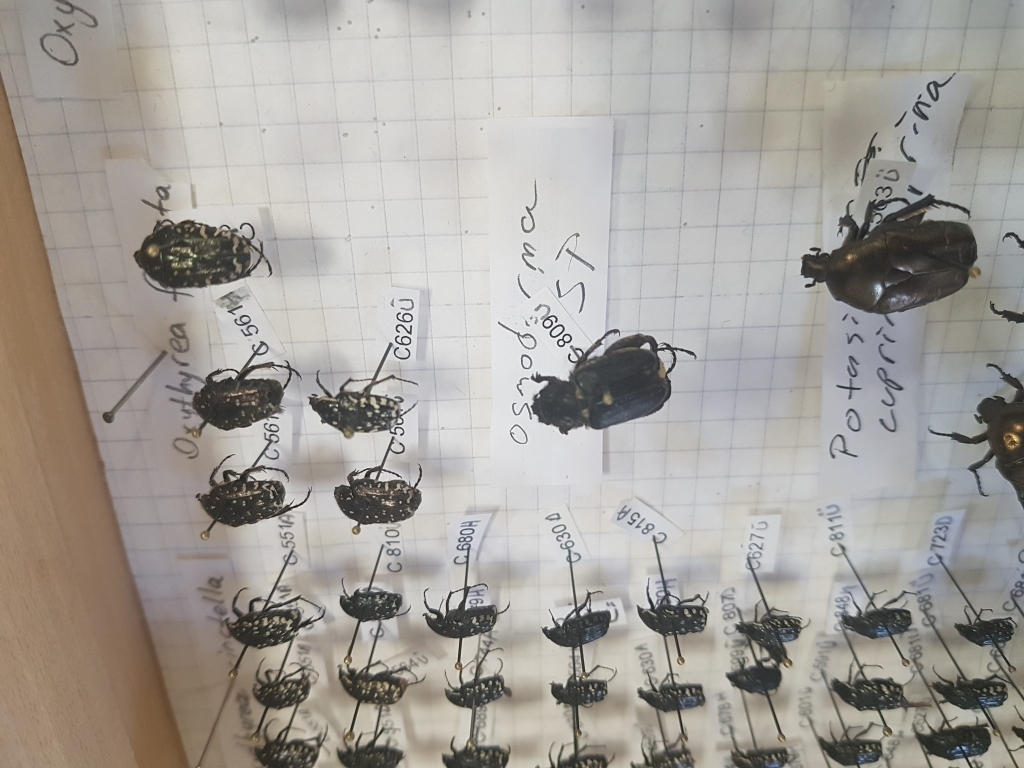Oxythyrea_funesta: (131, 208, 271, 299), (185, 461, 306, 527), (299, 372, 419, 434), (325, 463, 426, 528)
